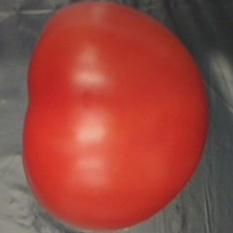unripe: (18, 0, 215, 233)
